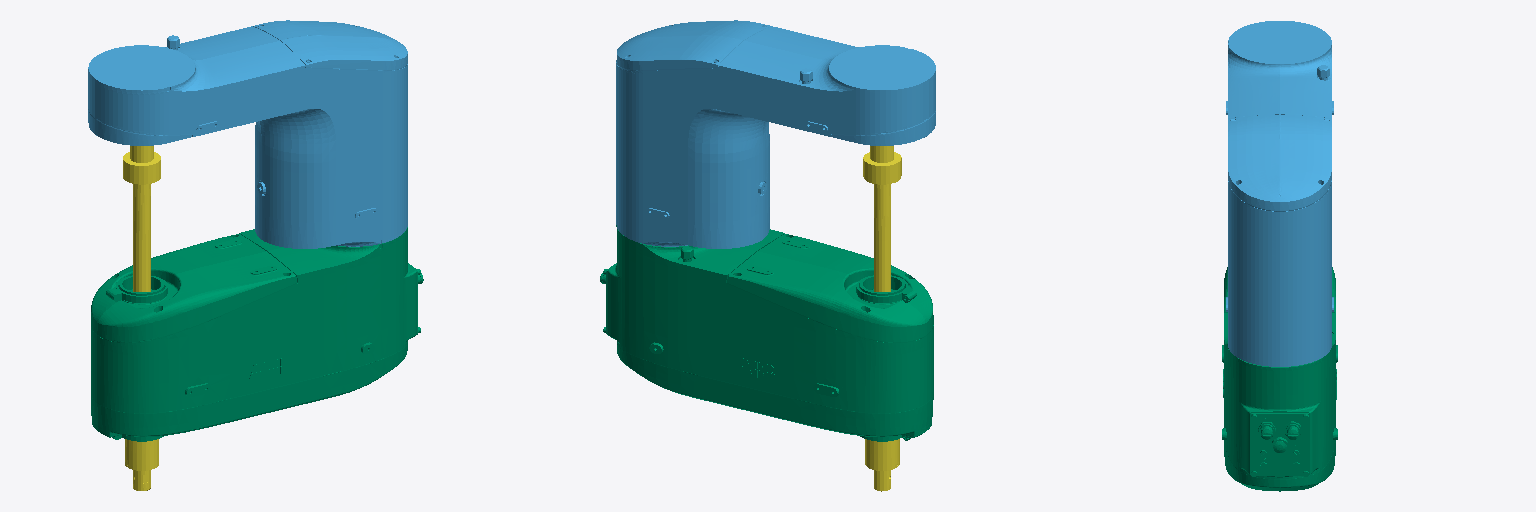
URDF robot description (IRB910INV_550):
<?xml version="1.0" ?>
<robot name="IRB910INV_550">

<link name="base_link">
  <inertial>
    <origin xyz="-0.03428217335737813 -2.4667588020476706e-07 0.08971070325608167" rpy="0 0 0"/>
    <mass value="47.926347738289834"/>
    <inertia ixx="0.305149" iyy="0.354553" izz="0.217137" ixy="-4e-06" iyz="9.8e-05" ixz="0.004008"/>
  </inertial>
  <visual>
    <origin xyz="0 0 0" rpy="0 0 0"/>
    <geometry>
      <mesh filename="meshes/base_link.stl" scale="0.001 0.001 0.001"/>
    </geometry>
  </visual>
  <collision>
    <origin xyz="0 0 0" rpy="0 0 0"/>
    <geometry>
      <mesh filename="meshes/base_link.stl" scale="0.001 0.001 0.001"/>
    </geometry>
  </collision>
</link>

<link name="Link1_C550_IP54CR_1">
  <inertial>
    <origin xyz="0.19001834496263106 1.2971798160160128e-05 -0.11021715675959742" rpy="0 0 0"/>
    <mass value="47.35022106297793"/>
    <inertia ixx="0.302918" iyy="0.718755" izz="0.514821" ixy="7.2e-05" iyz="-4.1e-05" ixz="0.191541"/>
  </inertial>
  <visual>
    <origin xyz="-0.0 -4e-06 0.0225" rpy="0 0 0"/>
    <geometry>
      <mesh filename="meshes/Link1_C550_IP54CR_1.stl" scale="0.001 0.001 0.001"/>
    </geometry>
  </visual>
  <collision>
    <origin xyz="-0.0 -4e-06 0.0225" rpy="0 0 0"/>
    <geometry>
      <mesh filename="meshes/Link1_C550_IP54CR_1.stl" scale="0.001 0.001 0.001"/>
    </geometry>
  </collision>
</link>

<link name="Link2_C550_IP54CR_1">
  <inertial>
    <origin xyz="-0.1301713720166507 4.3805985255709795e-06 -0.09290145322121324" rpy="0 0 0"/>
    <mass value="60.90584870029004"/>
    <inertia ixx="0.222627" iyy="0.806335" izz="0.734879" ixy="-2.5e-05" iyz="-5e-05" ixz="-0.033018"/>
  </inertial>
  <visual>
    <origin xyz="-0.275 -4e-06 0.281" rpy="0 0 0"/>
    <geometry>
      <mesh filename="meshes/Link2_C550_IP54CR_1.stl" scale="0.001 0.001 0.001"/>
    </geometry>
  </visual>
  <collision>
    <origin xyz="-0.275 -4e-06 0.281" rpy="0 0 0"/>
    <geometry>
      <mesh filename="meshes/Link2_C550_IP54CR_1.stl" scale="0.001 0.001 0.001"/>
    </geometry>
  </collision>
</link>

<link name="Link4_C550_IP54CR_1">
  <inertial>
    <origin xyz="2.314787645762635e-06 3.455104944045238e-06 -0.16788068593611935" rpy="0 0 0"/>
    <mass value="1.2507936056644426"/>
    <inertia ixx="0.030362" iyy="0.030362" izz="0.000213" ixy="-0.0" iyz="1e-06" ixz="1e-06"/>
  </inertial>
  <visual>
    <origin xyz="0.0 0.0 0.158" rpy="0 0 0"/>
    <geometry>
      <mesh filename="meshes/Link4_C550_IP54CR_1.stl" scale="0.001 0.001 0.001"/>
    </geometry>
  </visual>
  <collision>
    <origin xyz="0.0 0.0 0.158" rpy="0 0 0"/>
    <geometry>
      <mesh filename="meshes/Link4_C550_IP54CR_1.stl" scale="0.001 0.001 0.001"/>
    </geometry>
  </collision>
</link>

<joint name="j1" type="revolute">
  <origin xyz="0.0 4e-06 -0.0225" rpy="0 0 0"/>
  <parent link="base_link"/>
  <child link="Link1_C550_IP54CR_1"/>
  <axis xyz="0.0 0.0 -1.0"/>
  <limit lower="-2.61799" upper="2.61799" effort="0.0" velocity="0.0"/>
</joint>

<joint name="j2" type="revolute">
  <origin xyz="0.275 0.0 -0.2585" rpy="0 0 0"/>
  <parent link="Link1_C550_IP54CR_1"/>
  <child link="Link2_C550_IP54CR_1"/>
  <axis xyz="0.0 0.0 -1.0"/>
  <limit lower="-2.53073" upper="2.53073" effort="0.0" velocity="0.0"/>
</joint>

<joint name="Slider_3" type="prismatic">
  <origin xyz="-0.275 -4e-06 0.123" rpy="0 0 0"/>
  <parent link="Link2_C550_IP54CR_1"/>
  <child link="Link4_C550_IP54CR_1"/>
  <axis xyz="0.0 0.0 1.0"/>
  <limit upper="0.0" lower="-0.1" effort="100" velocity="100"/>
</joint>

<joint name="joint_4" type="revolute">
  <origin xyz="0 0 0" rpy="0 0 0"/>
  <parent link="Link4_C550_IP54CR_1"/>
  <child link="flange"/>
  <axis xyz="0.0 0.0 1.0"/>
  <limit lower="-6.98132" upper="6.98132" effort="0.0" velocity="0.0"/>
</joint>

<link name="flange">
  <inertial>
    <origin xyz="0 0 0" rpy="0 0 0"/>
    <mass value="0.1"/>
    <inertia ixx="0.0001" iyy="0.0001" izz="0.0001" ixy="0" iyz="0" ixz="0"/>
  </inertial>
</link>

<link name="tool0">
  <inertial>
    <origin xyz="0 0 0" rpy="0 0 0"/>
    <mass value="0.01"/>
    <inertia ixx="0.00001" iyy="0.00001" izz="0.00001" ixy="0" iyz="0" ixz="0"/>
  </inertial>
</link>

<joint name="joint_tool0" type="fixed">
  <origin xyz="0 0 0" rpy="0 0 0"/>
  <parent link="flange"/>
  <child link="tool0"/>
</joint>

</robot>

--- Facts derived from the render (not from the file) ---
The picture shows the robot from 3 angles, left to right: view 1: azimuth 30°, elevation 25°; view 2: azimuth 150°, elevation 25°; view 3: azimuth 270°, elevation 25°; orthographic projection.
Robot: IRB910INV_550 — 6 links, 5 joints (3 revolute, 1 prismatic, 1 fixed); root link base_link; default pose: all joints at 0.
Visible links, largest first — view 1: Link2_C550_IP54CR_1, Link1_C550_IP54CR_1, Link4_C550_IP54CR_1; view 2: Link2_C550_IP54CR_1, Link1_C550_IP54CR_1, Link4_C550_IP54CR_1; view 3: Link1_C550_IP54CR_1, Link2_C550_IP54CR_1.
Boxes of the visible links, x1,y1,x2,y2 form: Link2_C550_IP54CR_1: (91, 227, 423, 441); Link1_C550_IP54CR_1: (88, 20, 407, 248); Link4_C550_IP54CR_1: (123, 146, 160, 490); Link2_C550_IP54CR_1: (600, 225, 933, 441); Link1_C550_IP54CR_1: (616, 20, 935, 248); Link4_C550_IP54CR_1: (863, 146, 901, 491); Link1_C550_IP54CR_1: (1226, 21, 1333, 366); Link2_C550_IP54CR_1: (1222, 267, 1337, 491).
Size in the robot's own frame: 0.4146 by 0.134 by 0.5205 metres.
Meshes: 4 distinct files referenced, 3 mesh visuals loaded (3 binary STL); not drawn: 1 (reference not matched to a file when rendering).